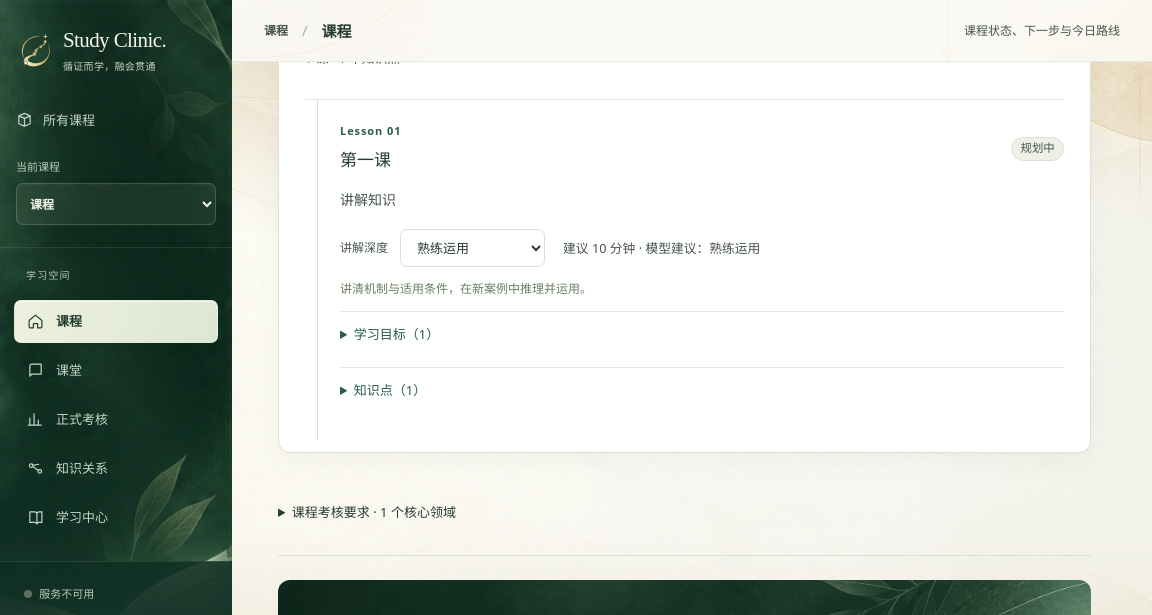
Test: 完整规划与独立学习界面 › 知识默认折叠，可调深度确认，先修是提醒，Formal独立入口
(page scrolled)
Expected: the heading "第一课" is shown, [340,148,391,171]
Click the heading "知识点（1）": click(390, 390) [354,381,426,399]
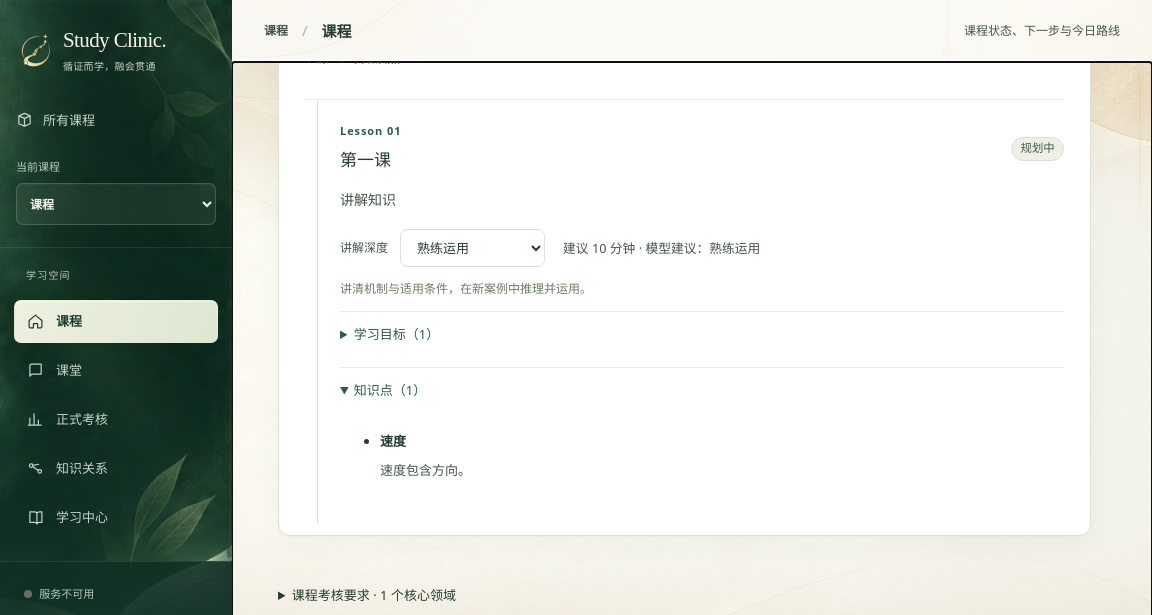
Now the text "知识点（1）" has attribute open, box [340,367,1064,482]
Select "深入迁移" in the dropdown named "第一课讲解深度": (473, 248) [400,229,545,267]
(page scrolled)
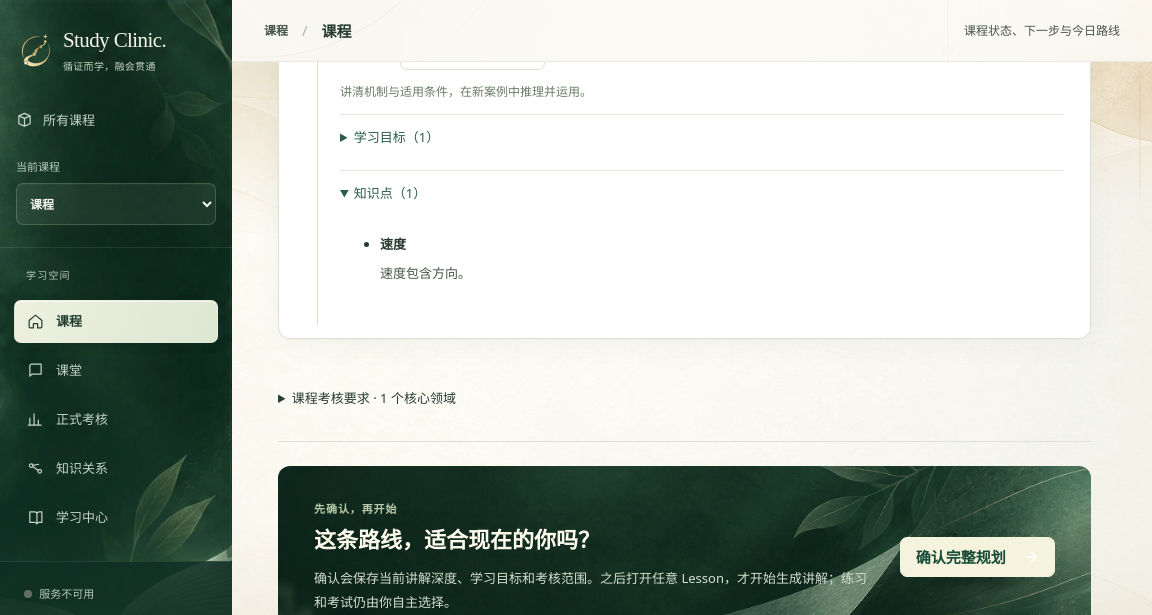
Click the button "确认完整规划": click(978, 557) [900,537,1055,577]
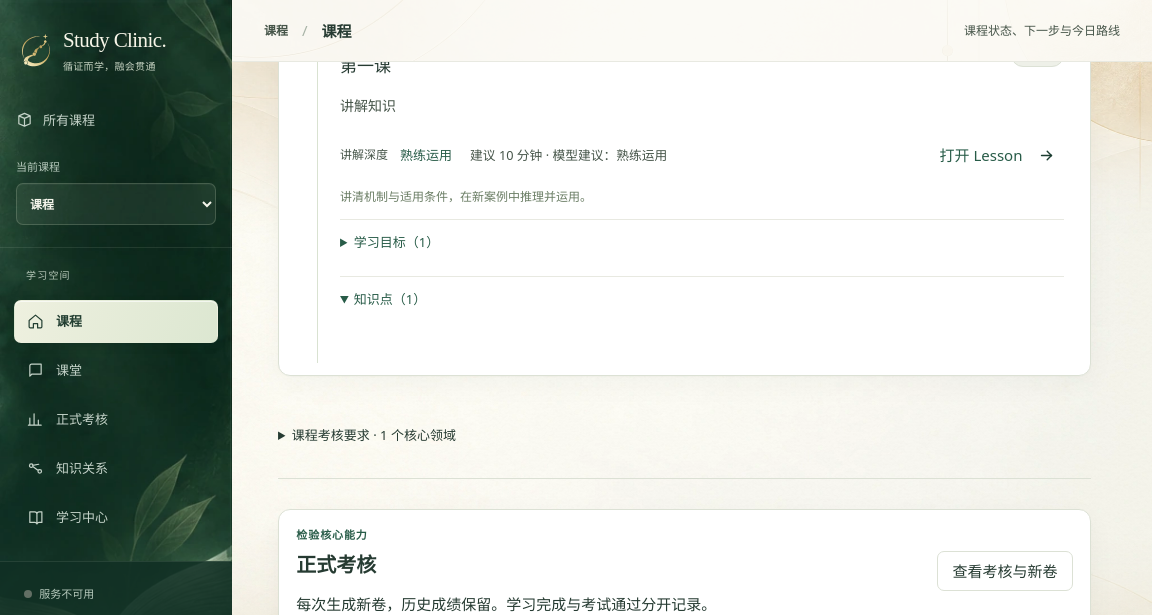
Now the button "打开 Lesson" is enabled, box [931,135,1064,175]
Click the button "正式考核": click(116, 419) [14,398,218,441]
(page scrolled)
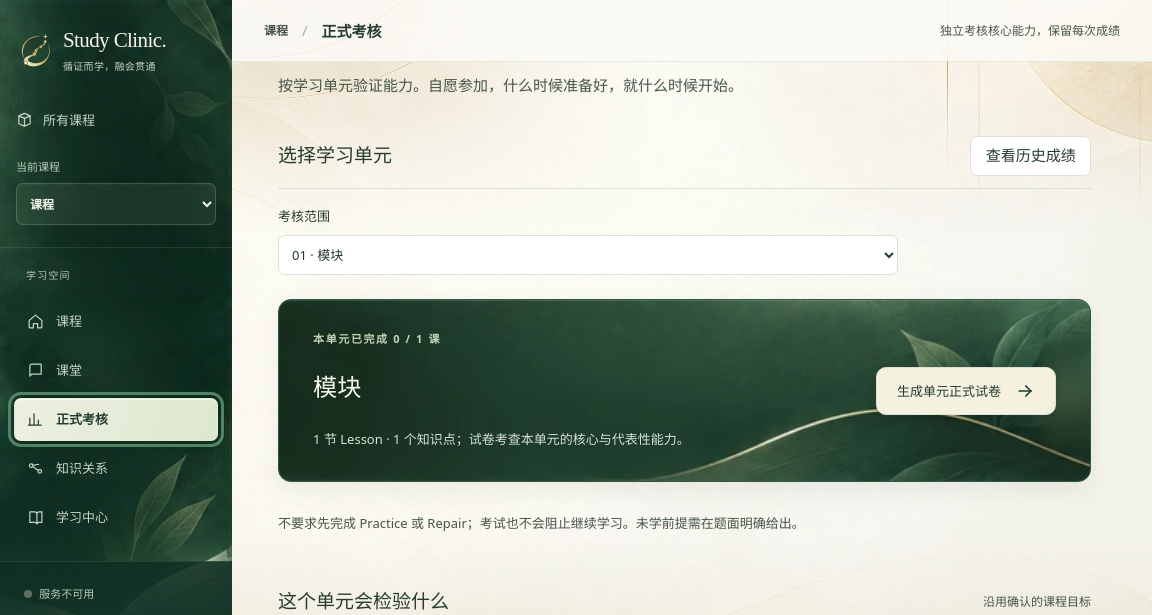
Now the button "生成单元正式试卷" is shown, box [876,367,1056,415]
